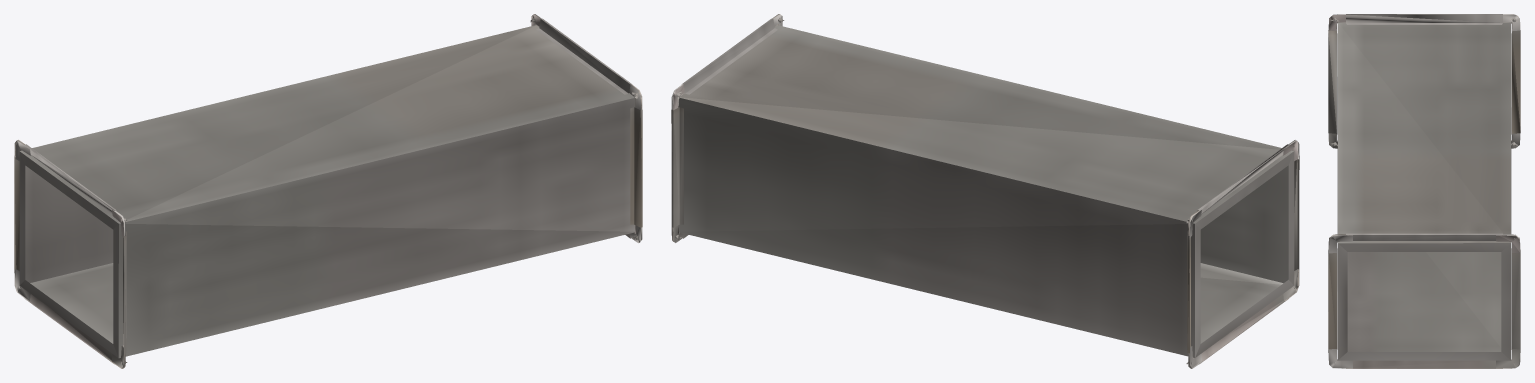
The model's file is air_duct.glb.
3 renders of one model, left to right at view 1: azimuth 30°, elevation 25°; view 2: azimuth 150°, elevation 25°; view 3: azimuth 270°, elevation 25°, orthographic. The views are drawn at different scales.
Parts seen in each view (by area): view 1: prop; view 2: prop; view 3: prop.
Boxes of the visible parts, <box> form: prop: <box>14,14,642,368</box>; prop: <box>671,14,1299,368</box>; prop: <box>1328,14,1520,368</box>.
Size of the model in its own units: 1.8 by 0.5119 by 0.6627.
Materials: 1 (1 with a texture image).
